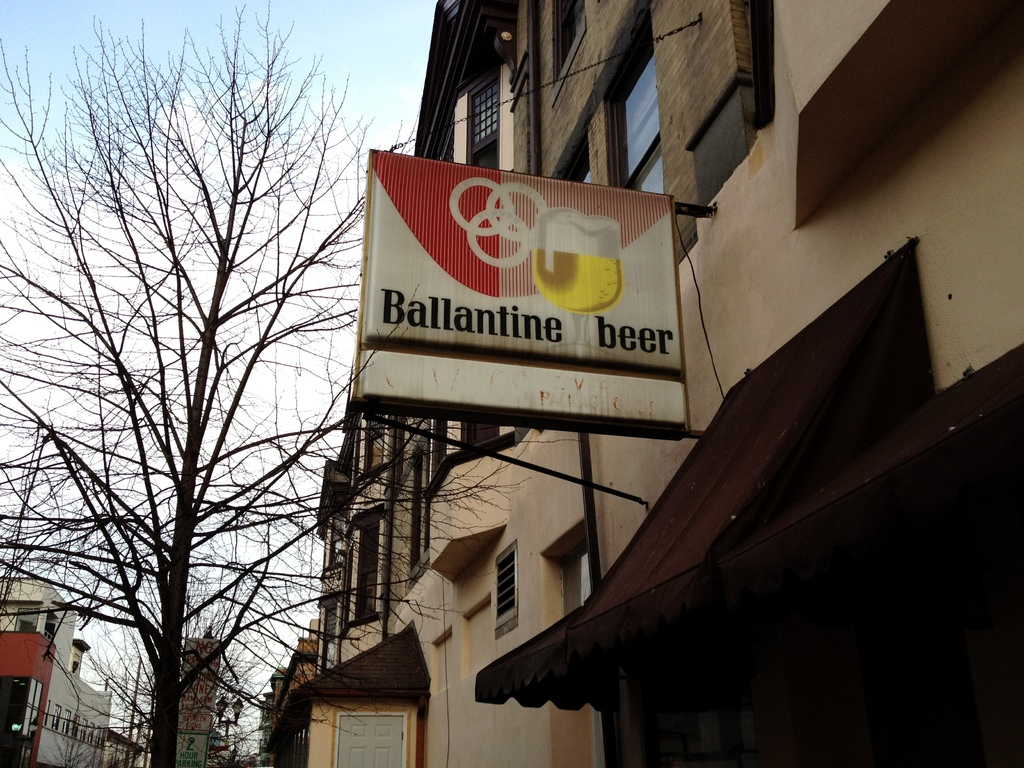cantilever: (358, 150, 720, 443)
